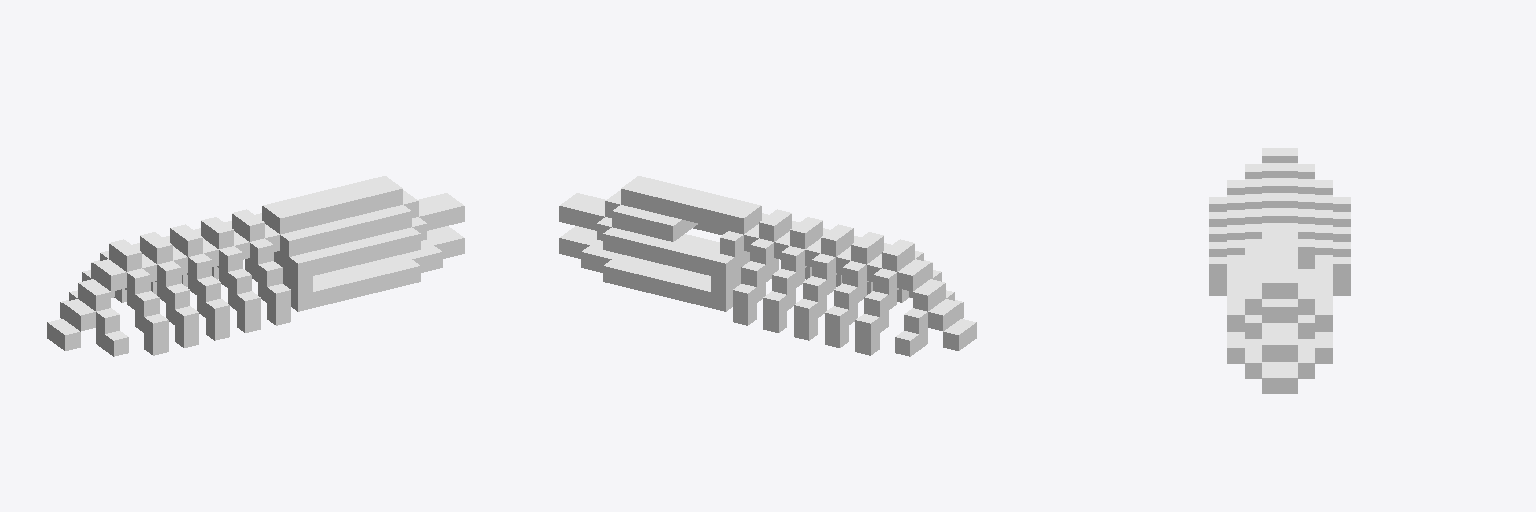
The model's file is lvl3-24.obj.
The picture shows the model from 3 angles: view 1: azimuth 30°, elevation 25°; view 2: azimuth 150°, elevation 25°; view 3: azimuth 270°, elevation 25°; orthographic projection.
Visible parts, largest first — view 1: object 1; view 2: object 1; view 3: object 1.
Part boxes in pixels (left/top/right/bottom): object 1: left=47, top=176, right=464, bottom=356; object 1: left=559, top=176, right=976, bottom=356; object 1: left=1209, top=148, right=1350, bottom=393.
Size of the model in its own units: 2.6 by 0.5 by 0.8.